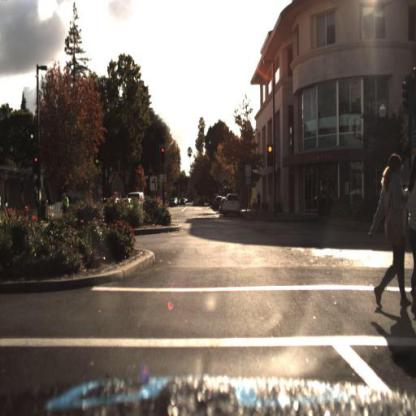biker: (57, 193, 74, 214)
car: (124, 187, 149, 215), (225, 196, 241, 220)
pedestrian: (369, 154, 416, 309), (255, 190, 263, 213)
trafficLight-Red: (267, 144, 276, 170), (32, 153, 40, 172), (161, 144, 168, 165)
